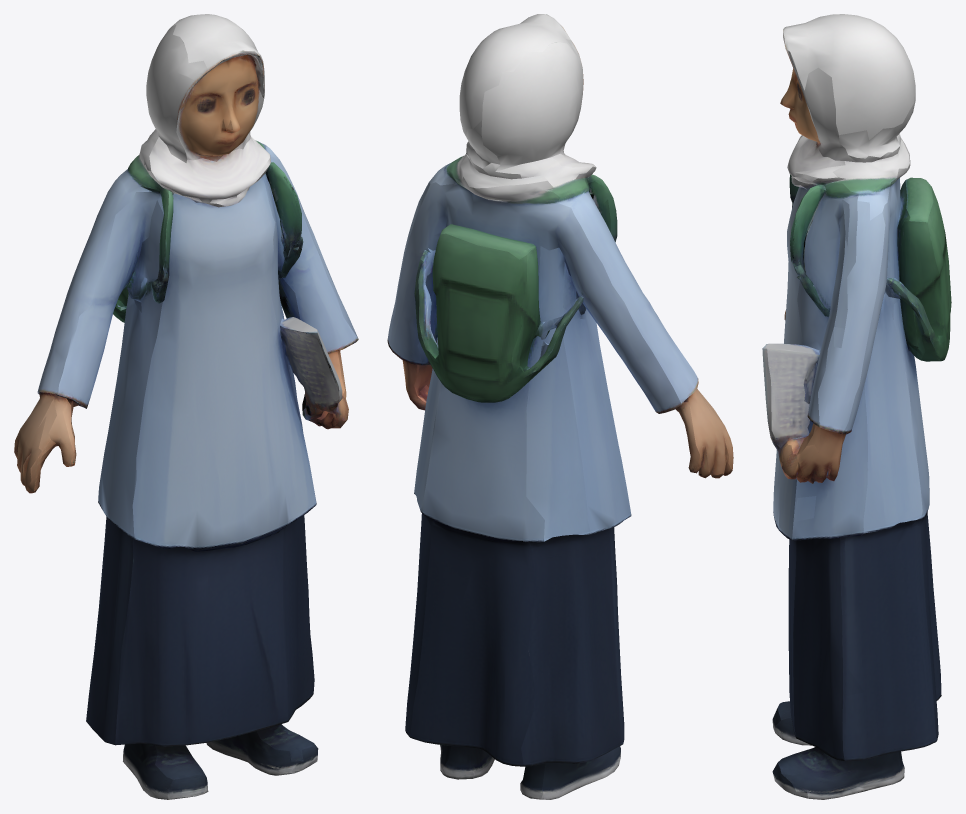
The model's file is studentgirlobject_0.glb.
3 views of the same model, side by side, from view 1: azimuth 30°, elevation 25°; view 2: azimuth 150°, elevation 25°; view 3: azimuth 270°, elevation 25° (orthographic).
Parts seen in each view (by area): view 1: world; view 2: world; view 3: world.
Part boxes in pixels (x1,y1,x2,y2): world: (14, 14, 358, 799); world: (387, 14, 733, 799); world: (762, 14, 951, 799).
Size of the model in its own units: 0.4749 by 0.9993 by 0.2323.
Materials: 1 (1 with a texture image).
